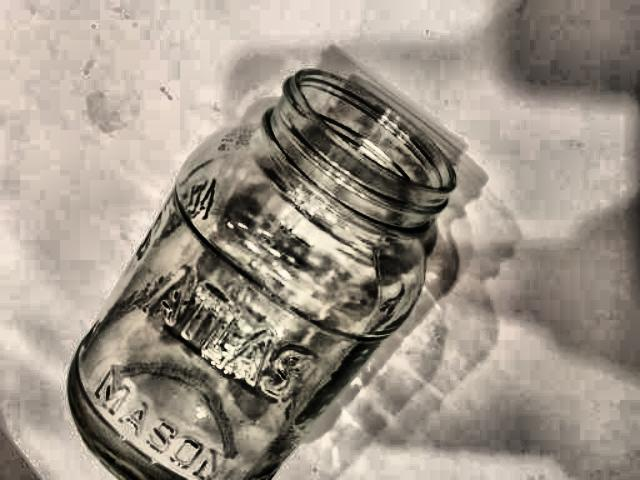Almennt: (33, 54, 467, 480)
